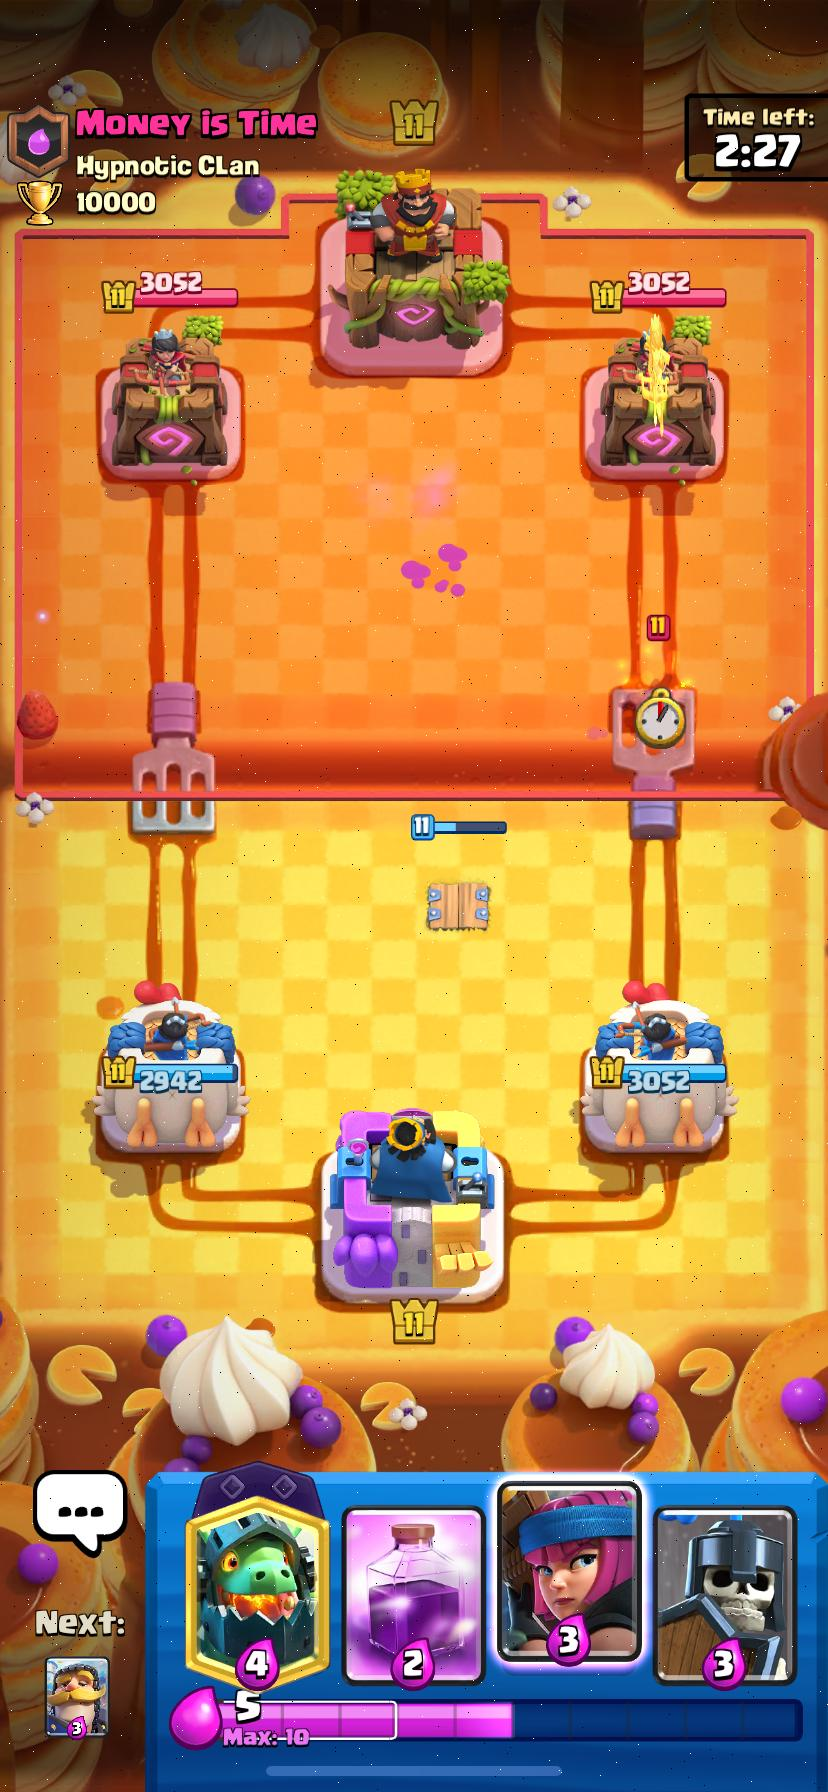EKingTower: (331, 170, 509, 351)
EnemyPrincessTower: (600, 315, 715, 475), (112, 328, 226, 479)
OTesla: (427, 882, 489, 931)
OwnKingTower: (321, 1109, 503, 1305)
OwnPrincessTower: (580, 982, 737, 1153), (93, 983, 248, 1152)
